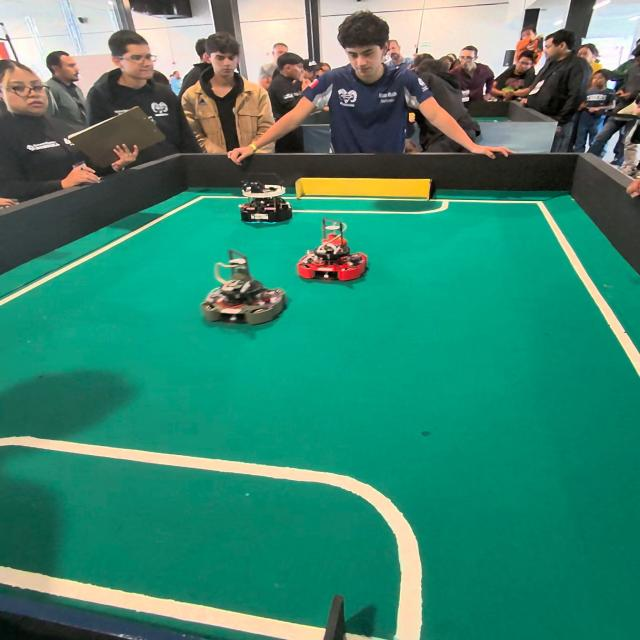Robot: (199, 251, 287, 328), (294, 228, 364, 286), (237, 178, 295, 232)
